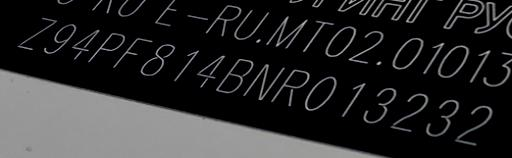letter: (452, 103, 494, 146), (240, 62, 286, 100), (388, 89, 428, 132), (269, 67, 311, 107), (423, 96, 461, 137), (214, 55, 254, 93), (360, 85, 398, 124), (16, 15, 58, 50), (138, 41, 176, 77), (302, 74, 338, 112), (112, 36, 154, 67), (86, 31, 126, 62), (195, 52, 227, 88), (42, 23, 78, 54), (69, 27, 101, 60), (339, 80, 367, 117), (172, 47, 200, 79)
